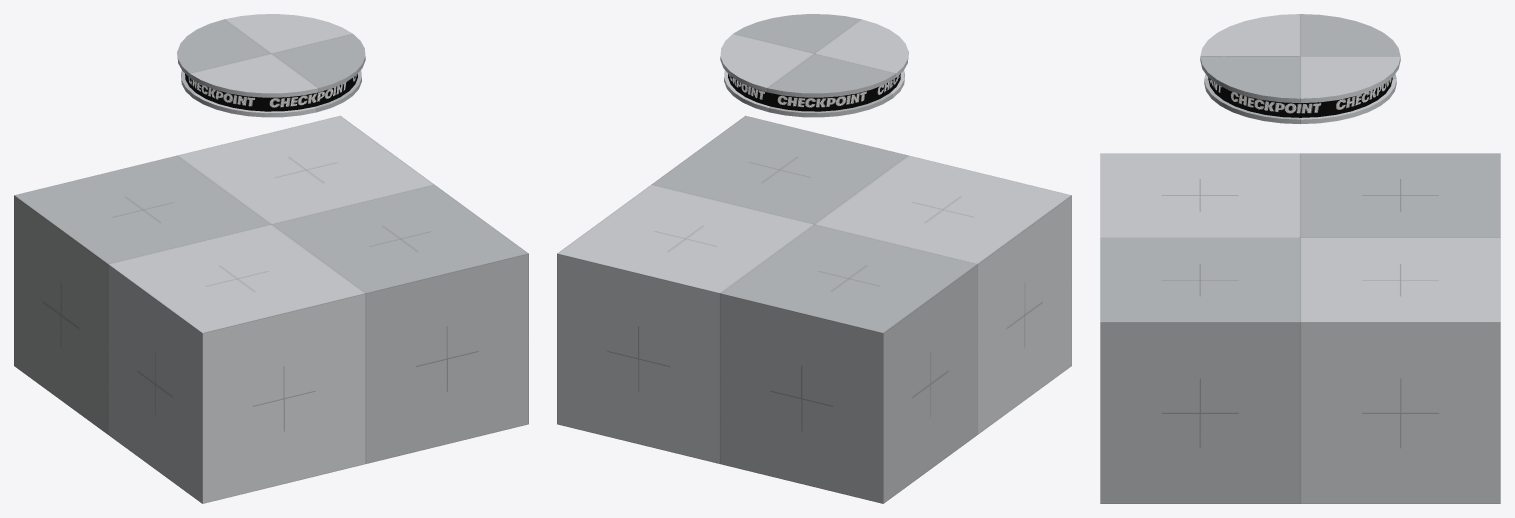
File: checkpoint.glb
3 views of the same model, side by side, from view 1: azimuth 30°, elevation 25°; view 2: azimuth 150°, elevation 25°; view 3: azimuth 270°, elevation 25° (orthographic). The views are drawn at different scales.
Visible parts, largest first — view 1: CheckpointBase, CheckpointTopTopPlate, CheckpointTopSign, CheckpointTopTopPlate.001; view 2: CheckpointBase, CheckpointTopTopPlate, CheckpointTopSign, CheckpointTopTopPlate.001; view 3: CheckpointBase, CheckpointTopTopPlate, CheckpointTopSign, CheckpointTopTopPlate.001.
Boxes of the visible parts, left/top/right/bottom form: CheckpointBase: left=14, top=115, right=528, bottom=503; CheckpointTopTopPlate: left=177, top=14, right=365, bottom=97; CheckpointTopSign: left=185, top=73, right=357, bottom=111; CheckpointTopTopPlate.001: left=181, top=70, right=361, bottom=117; CheckpointBase: left=557, top=115, right=1071, bottom=503; CheckpointTopTopPlate: left=720, top=14, right=908, bottom=97; CheckpointTopSign: left=728, top=73, right=900, bottom=111; CheckpointTopTopPlate.001: left=724, top=70, right=904, bottom=117; CheckpointBase: left=1100, top=153, right=1500, bottom=503; CheckpointTopTopPlate: left=1200, top=14, right=1400, bottom=103; CheckpointTopSign: left=1208, top=77, right=1392, bottom=117; CheckpointTopTopPlate.001: left=1204, top=74, right=1396, bottom=123.
Size of the model in its own units: 10 by 10 by 10.
Materials: 3 (3 with a texture image).
